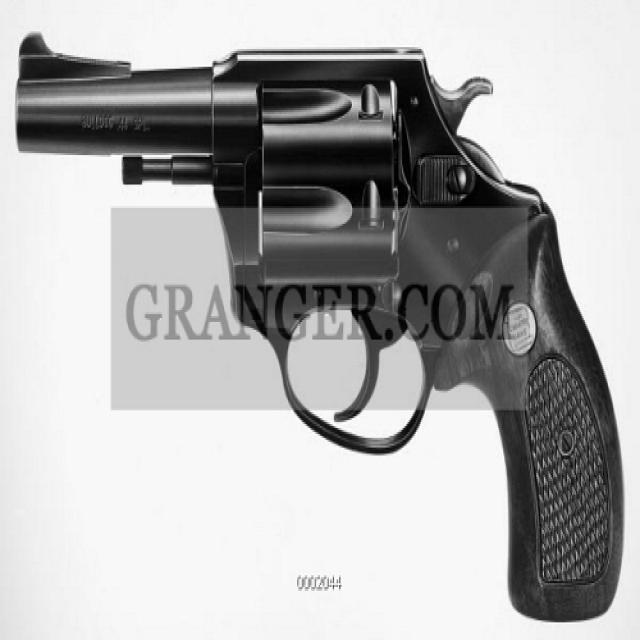Gun: (14, 20, 632, 633)
